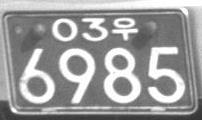0: (50, 17, 78, 42)
3: (81, 17, 108, 42)
5: (147, 46, 185, 104)
6: (17, 48, 56, 105)
8: (103, 46, 142, 104)
9: (58, 47, 96, 104)
우: (111, 17, 138, 41)
